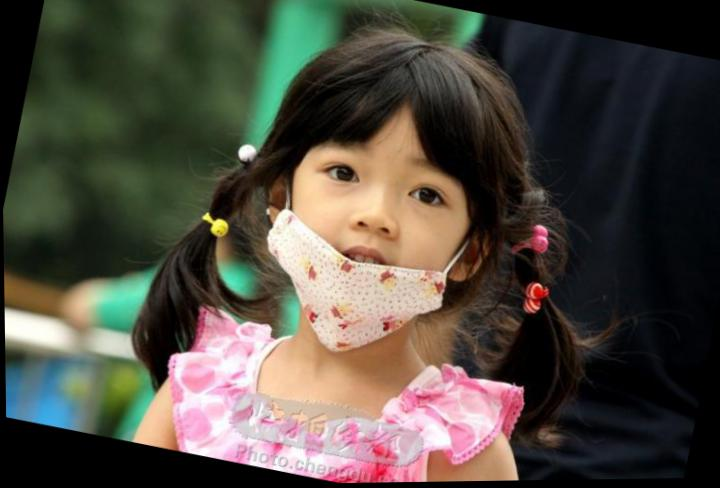WRONG: (258, 119, 496, 357)
